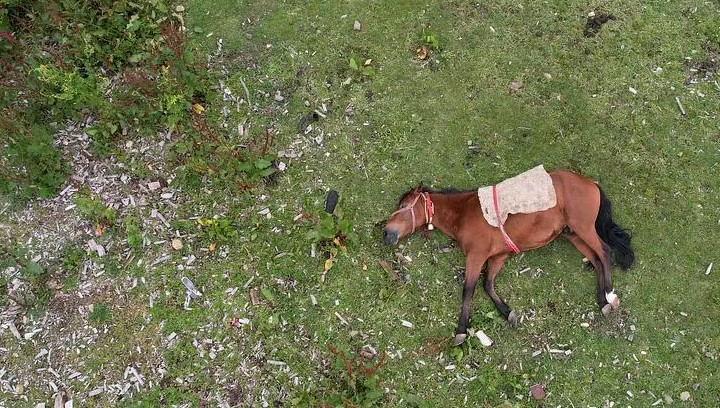horse: (382, 169, 635, 347)
